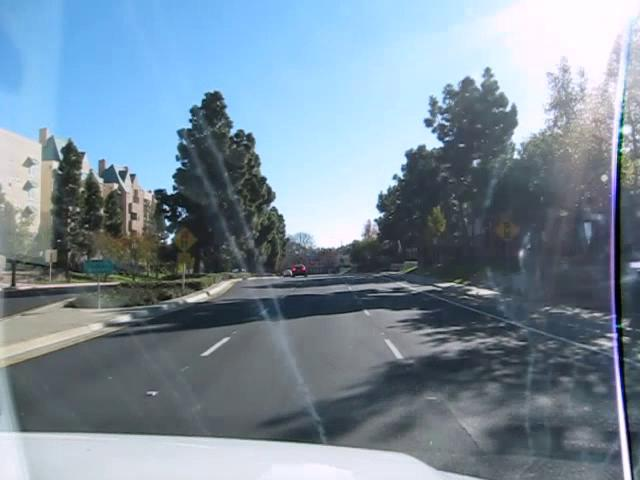signalAhead: (170, 225, 198, 253)
